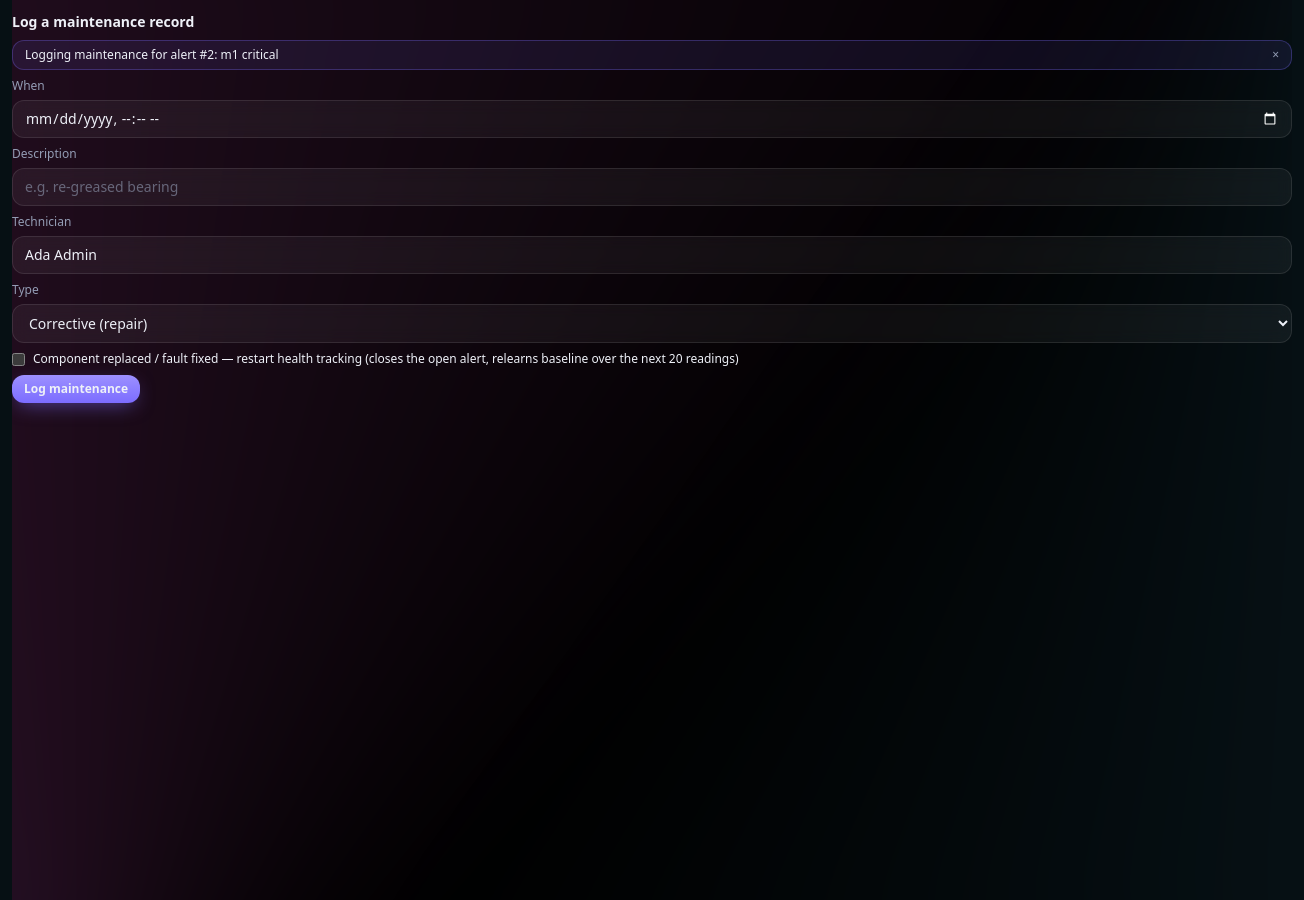
it: MaintenanceForm › shows a dismissible chip and defaults to corrective when a linked alert is set
Check: the text "Logging maintenance for alert #2: m1 critical" is shown, box top-left (25, 47), bottom-right (279, 63)
Check: the dropdown labelled "Type" shows "Corrective (repair)", box top-left (12, 304), bottom-right (1292, 343)
Click the button named "dismiss".
click(1276, 55)  # box top-left (1272, 47), bottom-right (1279, 63)
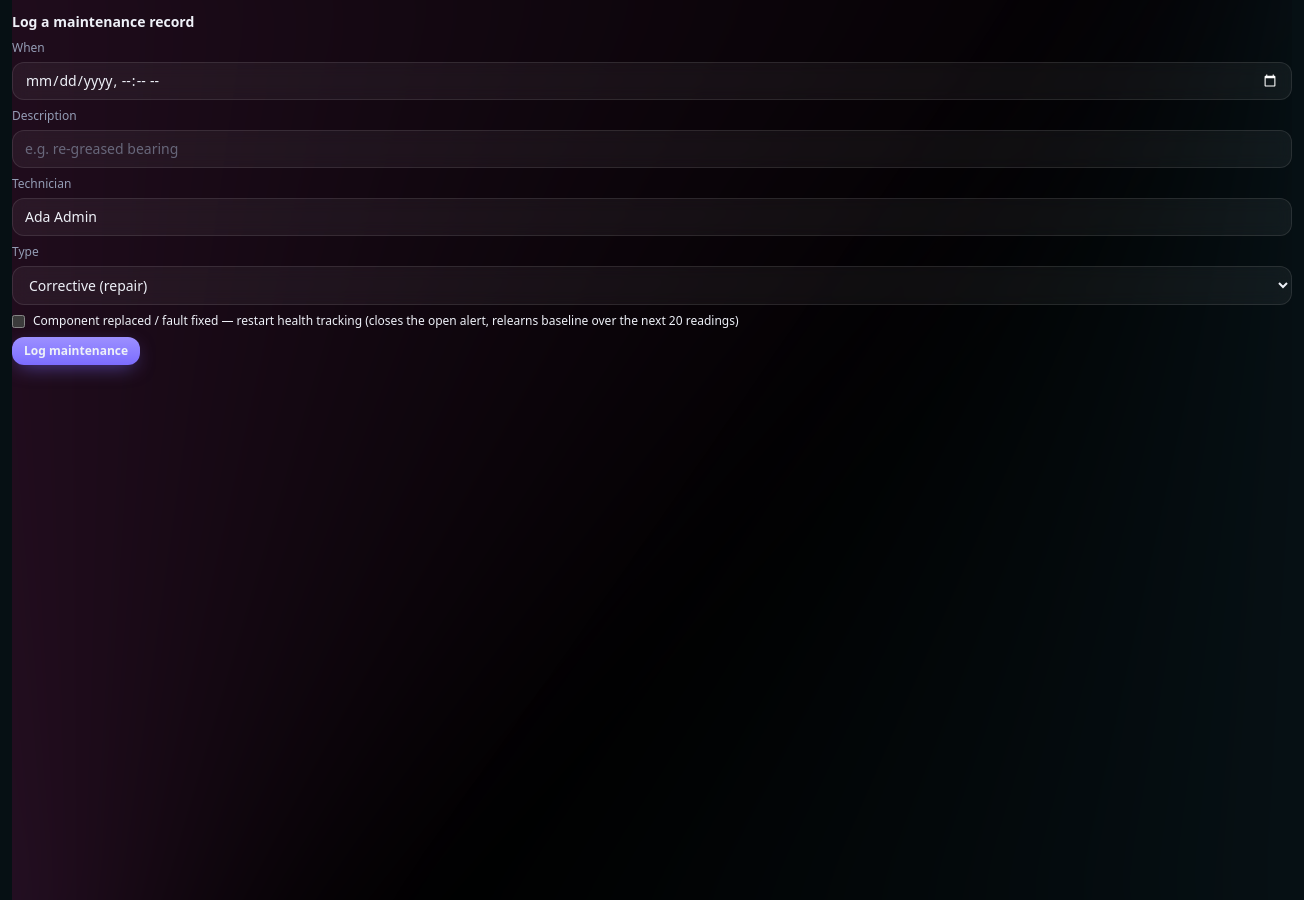
Check: the text "Logging maintenance for alert #2" is gone
